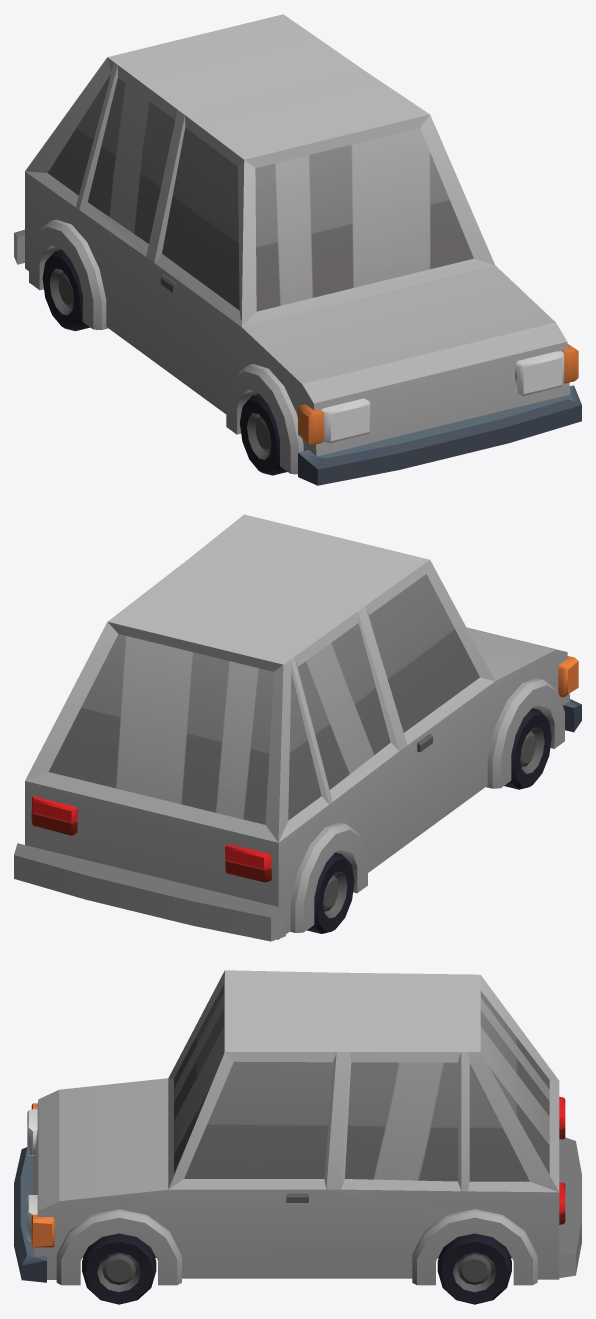
File: Car_1_11.glb
3 views of the same model, one above another, from view 1: azimuth 30°, elevation 25°; view 2: azimuth 150°, elevation 25°; view 3: azimuth 270°, elevation 25° (orthographic). The views are drawn at different scales.
Visible parts, largest first — view 1: Car_1_11, Wheel_Br, Wheel_Fr; view 2: Car_1_11, Wheel_Fr, Wheel_Br; view 3: Car_1_11, Wheel_Fl, Wheel_Bl.
Boxes of the visible parts, box(x1,y1,x2,y2) form: Car_1_11: box(14, 14, 581, 485); Wheel_Br: box(42, 249, 89, 331); Wheel_Fr: box(240, 394, 287, 475); Car_1_11: box(14, 514, 581, 941); Wheel_Fr: box(504, 708, 551, 789); Wheel_Br: box(307, 852, 354, 933); Car_1_11: box(14, 970, 581, 1285); Wheel_Fl: box(82, 1233, 156, 1304); Wheel_Bl: box(437, 1233, 511, 1304).
Bounding box in the file's own units: 1.05 × 0.9433 × 2.07.
4 materials, 4 textured.
